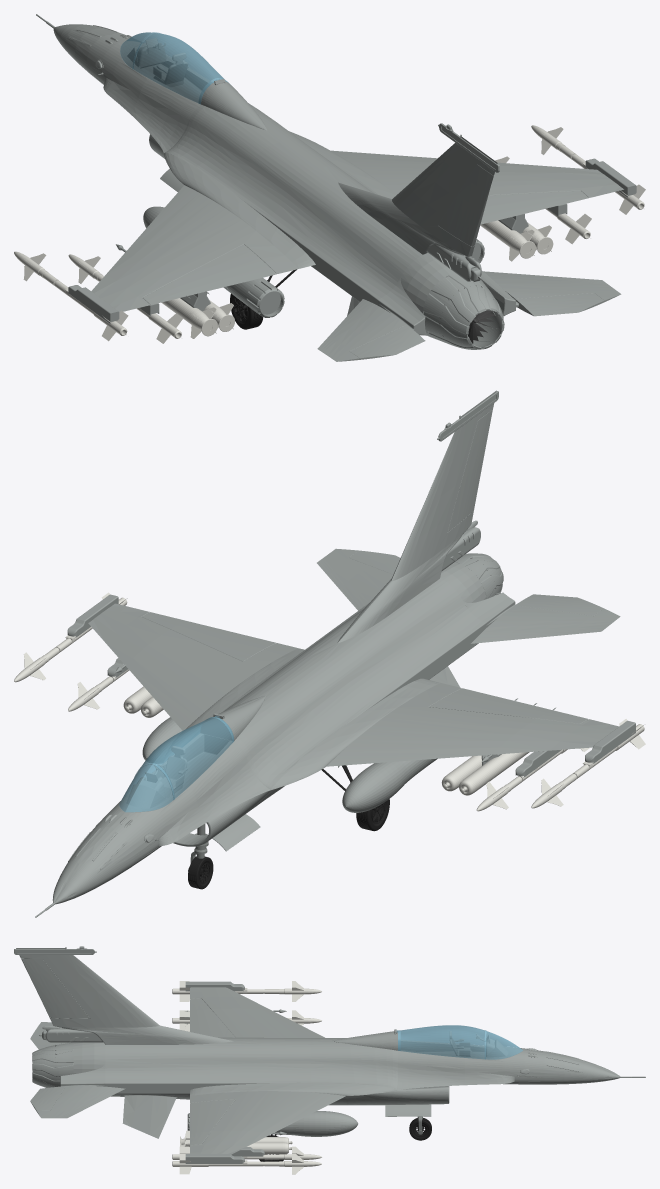
Rendered from f16_cad_high.glb.
3 views of the same model, one above another, from view 1: azimuth 30°, elevation 25°; view 2: azimuth 150°, elevation 25°; view 3: azimuth 270°, elevation 25° (orthographic). The views are drawn at different scales.
Parts seen in each view (by area): view 1: BodyAssy - Body_2-1, BodyAssy - Canopi-2, BodyAssy - Rear Stabilizer_Left-1, BodyAssy - Rear Stabilizer_Right-1, BodyAssy - Missile-3, BodyAssy - Missile-4, BodyAssy - Missile-1, BodyAssy - Missile_1SLDPRT-1, BodyAssy - Missile_1SLDPRT-3, BodyAssy - Missile-2, BodyAssy - Wheel and tyre_Left-1, BodyAssy - Missile_1SLDPRT-2 (+1 smaller); view 2: BodyAssy - Body_2-1, BodyAssy - Canopi-2, BodyAssy - Rear Stabilizer_Left-1, BodyAssy - Rear Stabilizer_Right-1, BodyAssy - Missile-3, BodyAssy - Missile_1SLDPRT-1, BodyAssy - Missile-4, BodyAssy - Missile-1; view 3: BodyAssy - Body_2-1, BodyAssy - Canopi-2, BodyAssy - Rear Stabilizer_Right-1, BodyAssy - Missile-4, BodyAssy - Missile-3, BodyAssy - Missile-2, BodyAssy - Missile_1SLDPRT-4, BodyAssy - Missile-1, BodyAssy - Front Tyre-1, BodyAssy - Rear Stabilizer_Left-1.
Boxes of the visible parts, bbox=[...] form: BodyAssy - Body_2-1: bbox=[36, 14, 636, 349]; BodyAssy - Canopi-2: bbox=[120, 32, 230, 104]; BodyAssy - Rear Stabilizer_Left-1: bbox=[317, 299, 425, 361]; BodyAssy - Rear Stabilizer_Right-1: bbox=[483, 271, 621, 316]; BodyAssy - Missile-3: bbox=[14, 251, 128, 341]; BodyAssy - Missile-4: bbox=[531, 125, 645, 214]; BodyAssy - Missile-1: bbox=[68, 254, 182, 343]; BodyAssy - Missile_1SLDPRT-1: bbox=[161, 298, 217, 338]; BodyAssy - Missile_1SLDPRT-3: bbox=[480, 220, 535, 261]; BodyAssy - Missile-2: bbox=[495, 156, 591, 244]; BodyAssy - Wheel and tyre_Left-1: bbox=[230, 293, 263, 329]; BodyAssy - Missile_1SLDPRT-2: bbox=[204, 300, 234, 331]; BodyAssy - Body_2-1: bbox=[35, 390, 635, 917]; BodyAssy - Canopi-2: bbox=[119, 715, 234, 812]; BodyAssy - Rear Stabilizer_Left-1: bbox=[471, 594, 620, 643]; BodyAssy - Rear Stabilizer_Right-1: bbox=[317, 548, 400, 610]; BodyAssy - Missile-3: bbox=[531, 719, 645, 808]; BodyAssy - Missile_1SLDPRT-1: bbox=[459, 752, 529, 795]; BodyAssy - Missile-4: bbox=[14, 592, 127, 682]; BodyAssy - Missile-1: bbox=[476, 747, 589, 811]; BodyAssy - Body_2-1: bbox=[14, 946, 645, 1163]; BodyAssy - Canopi-2: bbox=[396, 1025, 522, 1059]; BodyAssy - Rear Stabilizer_Right-1: bbox=[30, 1085, 125, 1118]; BodyAssy - Missile-4: bbox=[172, 1153, 321, 1174]; BodyAssy - Missile-3: bbox=[172, 981, 321, 1001]; BodyAssy - Missile-2: bbox=[172, 1146, 321, 1160]; BodyAssy - Missile_1SLDPRT-4: bbox=[180, 1136, 291, 1154]; BodyAssy - Missile-1: bbox=[172, 1010, 321, 1030]; BodyAssy - Front Tyre-1: bbox=[409, 1118, 431, 1140]; BodyAssy - Rear Stabilizer_Left-1: bbox=[30, 1022, 67, 1049].
Size of the model in its own units: 10.11 by 5.16 by 15.06.
